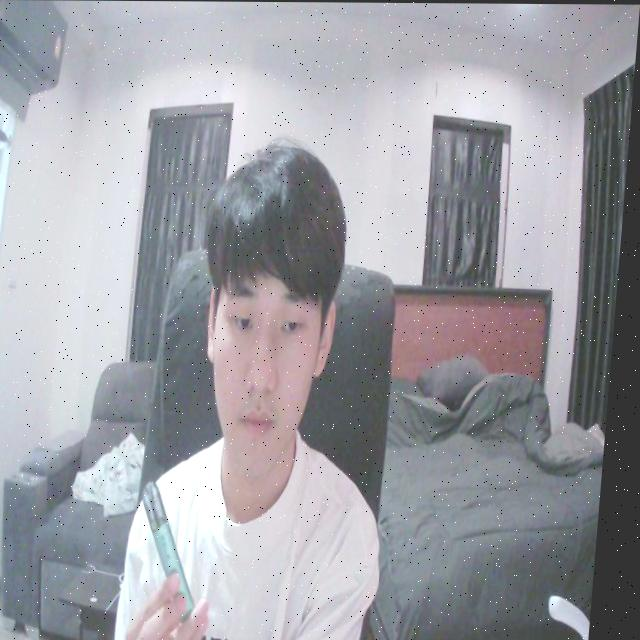vape: (139, 482, 214, 625)
